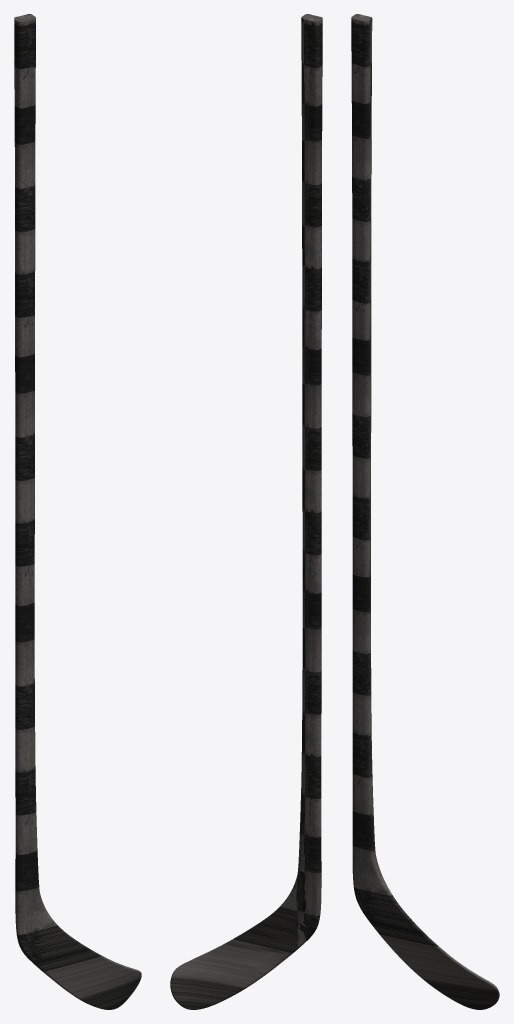
Rendered from P90TM-SBO.glb.
3 renders of one model, left to right at view 1: azimuth 30°, elevation 25°; view 2: azimuth 150°, elevation 25°; view 3: azimuth 330°, elevation 25°, orthographic. The views are drawn at different scales.
Parts seen in each view (by area): view 1: geometry_0; view 2: geometry_0; view 3: geometry_0.
Part boxes in pixels (x1,y1,x2,y2): geometry_0: (14, 14, 141, 1009); geometry_0: (170, 14, 322, 1009); geometry_0: (351, 14, 499, 1009).
Bounding box in the file's own units: 233 × 1650 × 62.22.
Materials: 1 (1 with a texture image).
